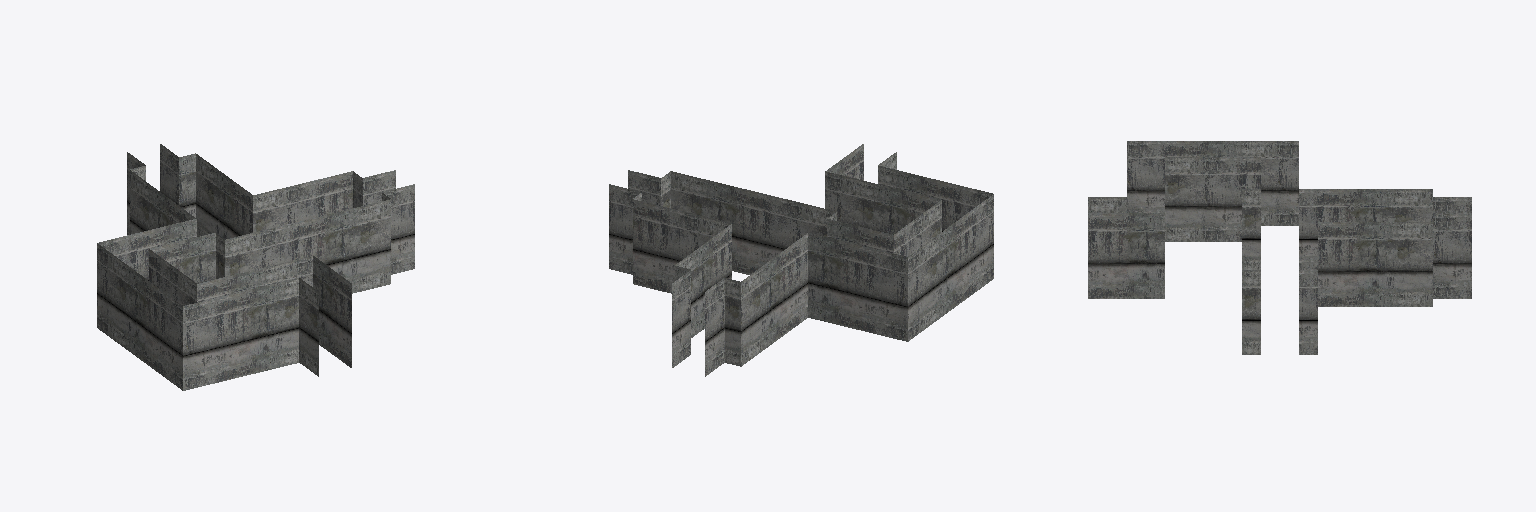
3 renders of one model, left to right at view 1: azimuth 30°, elevation 25°; view 2: azimuth 150°, elevation 25°; view 3: azimuth 270°, elevation 25°, orthographic.
Parts seen in each view (by area): view 1: Room; view 2: Room; view 3: Room.
Boxes of the visible parts, <box> form: Room: <box>97,144,414,390</box>; Room: <box>609,144,993,376</box>; Room: <box>1088,141,1471,354</box>.
Size of the model in its own units: 9 by 2.45 by 10.
Materials: 1 (1 with a texture image).